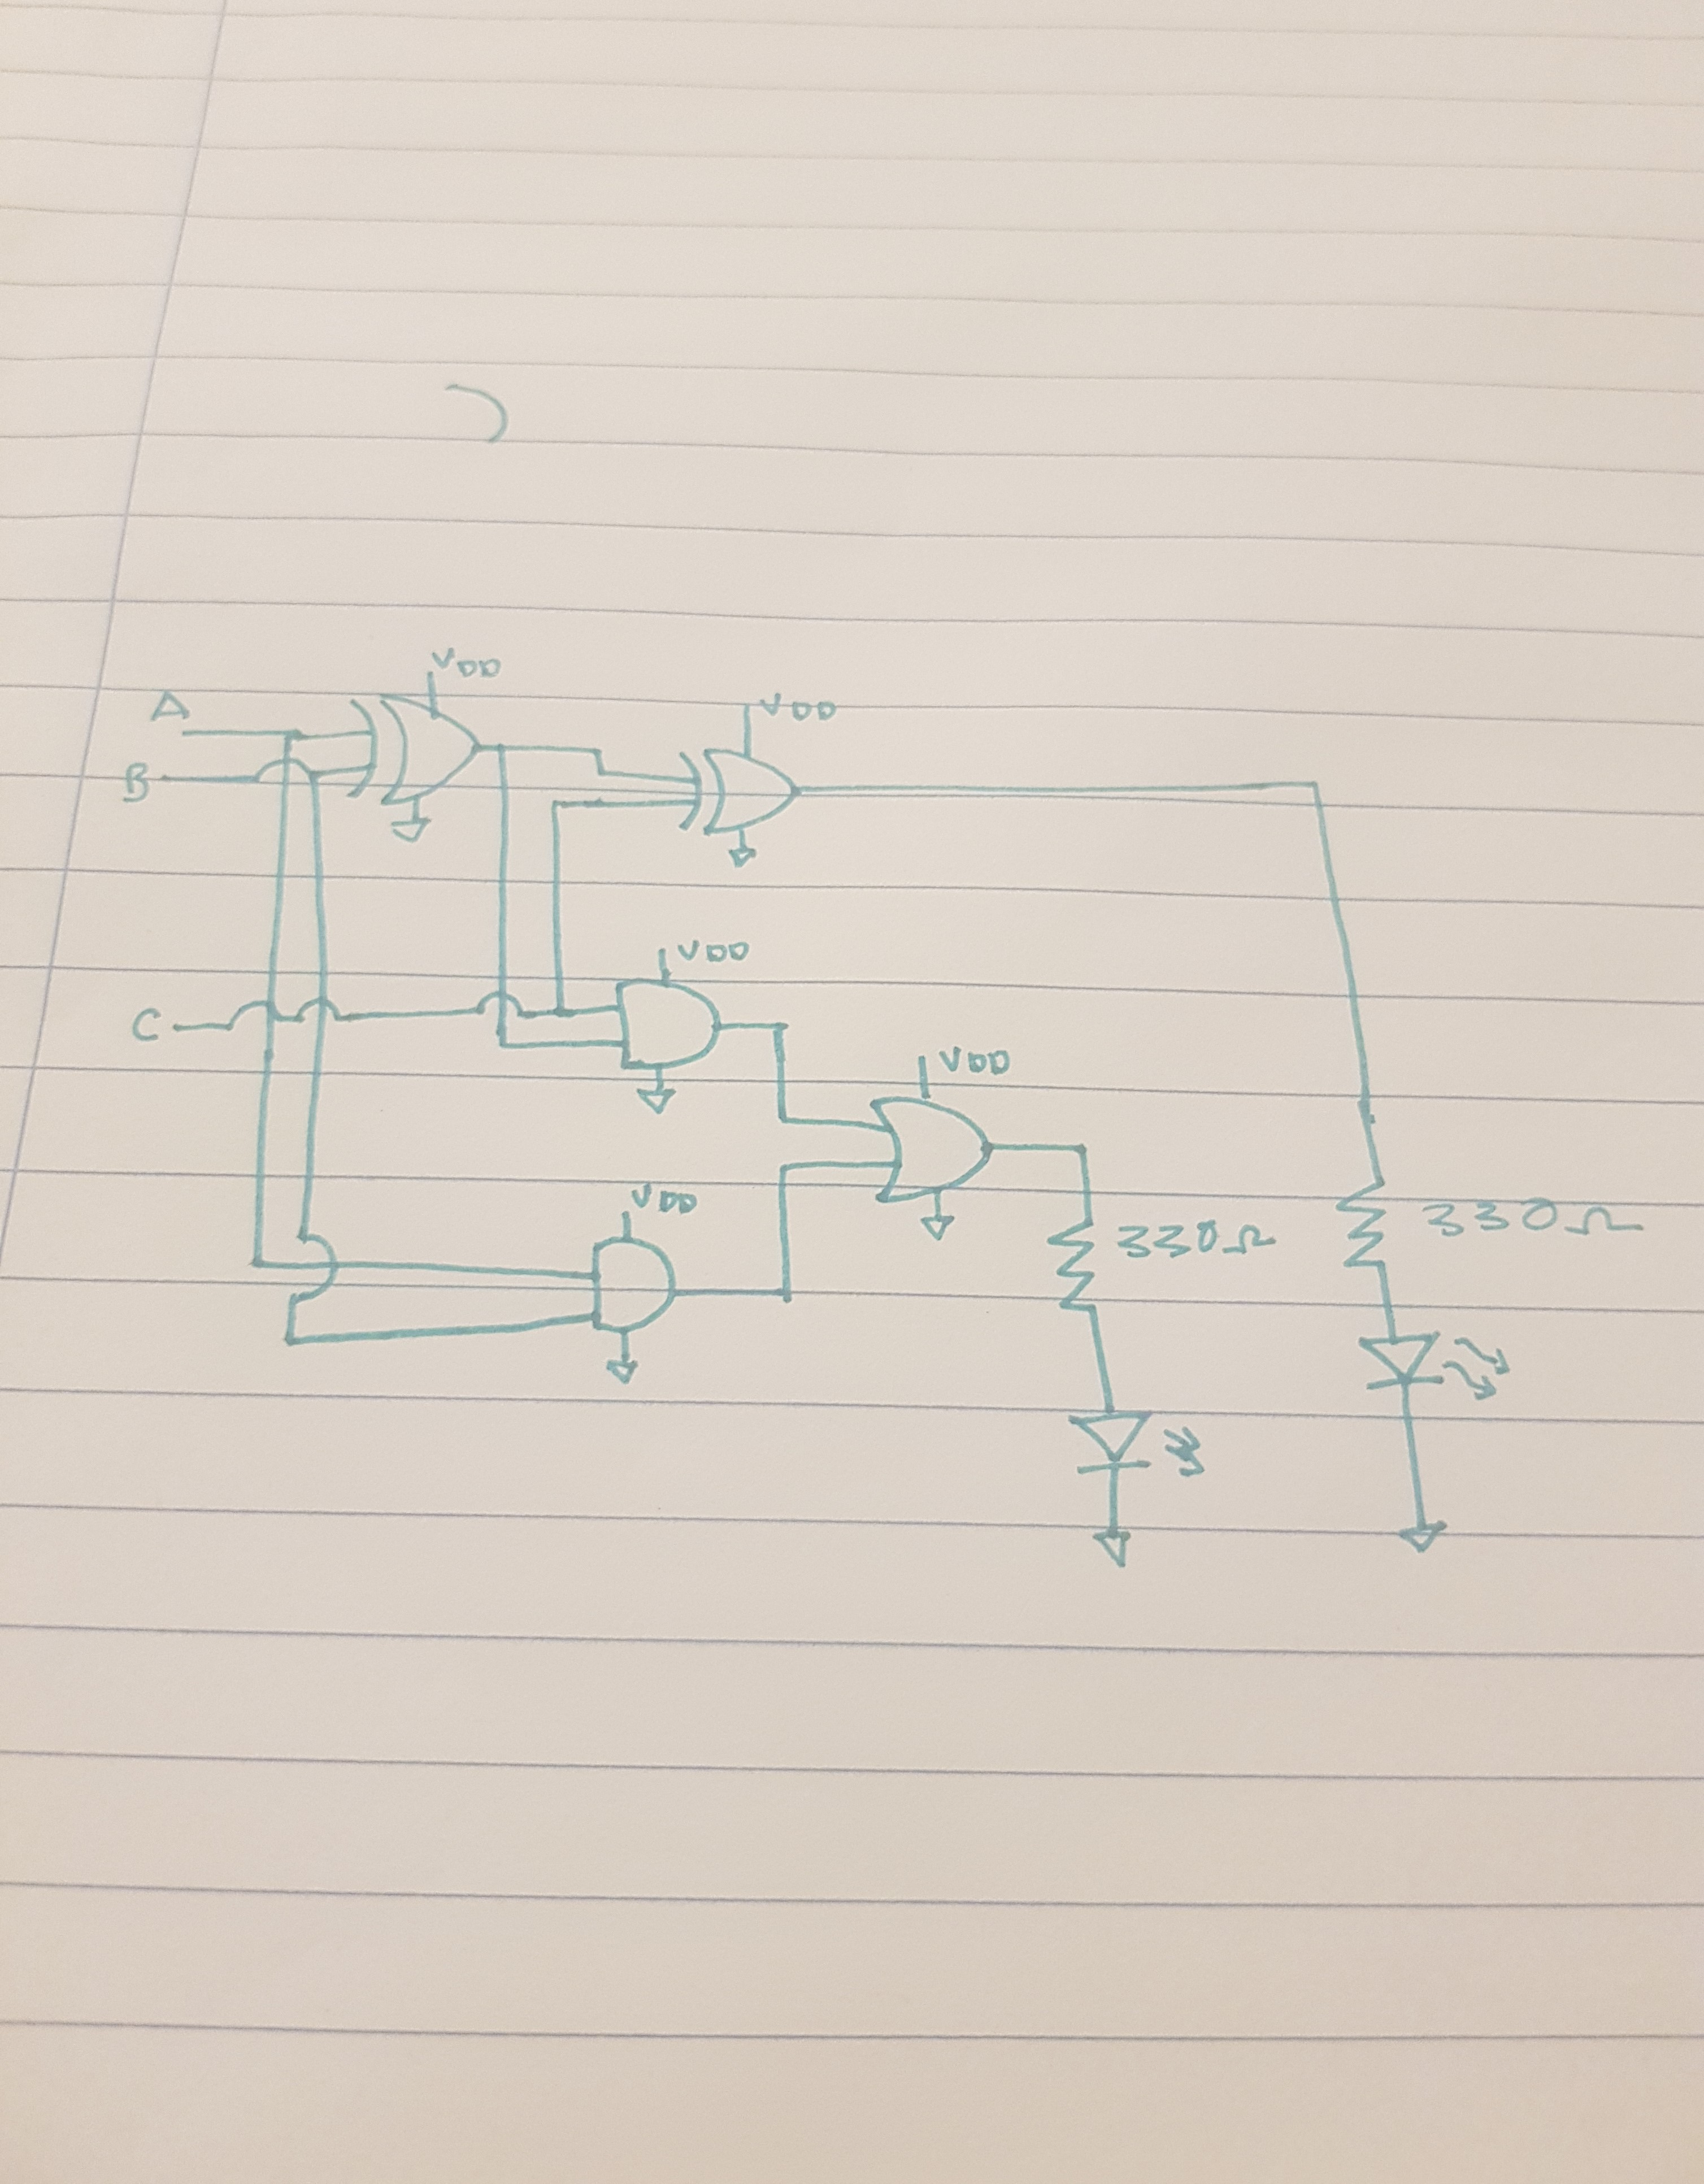and: (603, 964, 725, 1076), (575, 1236, 688, 1338)
crossover: (285, 1232, 340, 1306), (254, 757, 323, 789), (223, 1000, 282, 1033), (472, 987, 525, 1018), (294, 996, 344, 1028)
diode.light_emitting: (1351, 1324, 1518, 1413), (1062, 1404, 1229, 1482)
gnd: (596, 1351, 654, 1395), (1392, 1516, 1452, 1558), (631, 1083, 693, 1124), (1090, 1528, 1147, 1571), (913, 1211, 966, 1246), (387, 812, 436, 847), (718, 844, 770, 874)
junction: (770, 1278, 801, 1312), (585, 746, 612, 778), (273, 1326, 301, 1353), (245, 1252, 270, 1278), (766, 1018, 794, 1041), (1300, 773, 1326, 796), (773, 1161, 800, 1184), (770, 1110, 796, 1133), (1067, 1138, 1092, 1161), (491, 1035, 514, 1058), (275, 723, 301, 743), (550, 1003, 573, 1023), (543, 796, 564, 815), (491, 739, 512, 759)
or: (864, 1081, 998, 1209)
resistor: (1330, 1172, 1410, 1276), (1044, 1218, 1121, 1317)
terminal: (163, 1016, 195, 1041), (154, 769, 184, 794), (174, 720, 200, 746)
text: (1415, 1195, 1645, 1237), (1114, 1214, 1278, 1260), (429, 642, 504, 681), (757, 690, 842, 723), (629, 1181, 702, 1218), (676, 934, 752, 970), (936, 1044, 1014, 1078), (147, 688, 192, 725), (121, 760, 152, 805), (126, 1005, 163, 1042)
xor: (344, 686, 486, 808), (676, 734, 805, 837)
